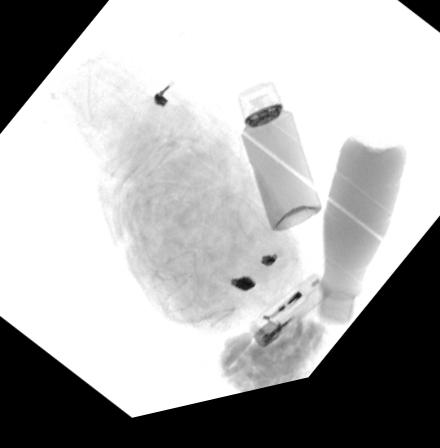Lighter: (245, 286, 333, 361)
Sprayer: (237, 93, 321, 245)
